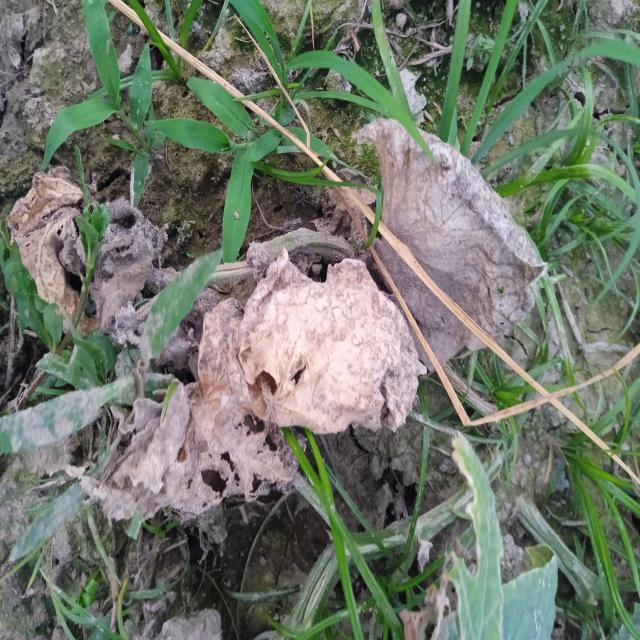cucumber_bacterial: (353, 115, 566, 364), (194, 249, 438, 447), (0, 378, 241, 547), (10, 166, 164, 355)
